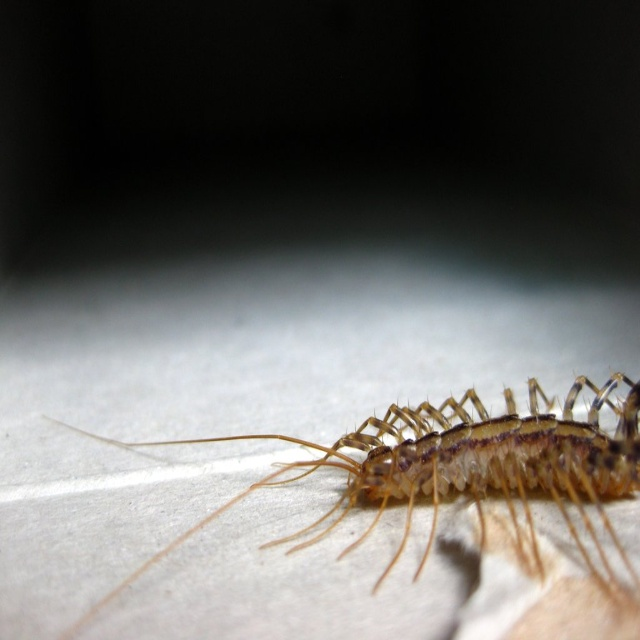Centipede: (43, 368, 640, 639)
